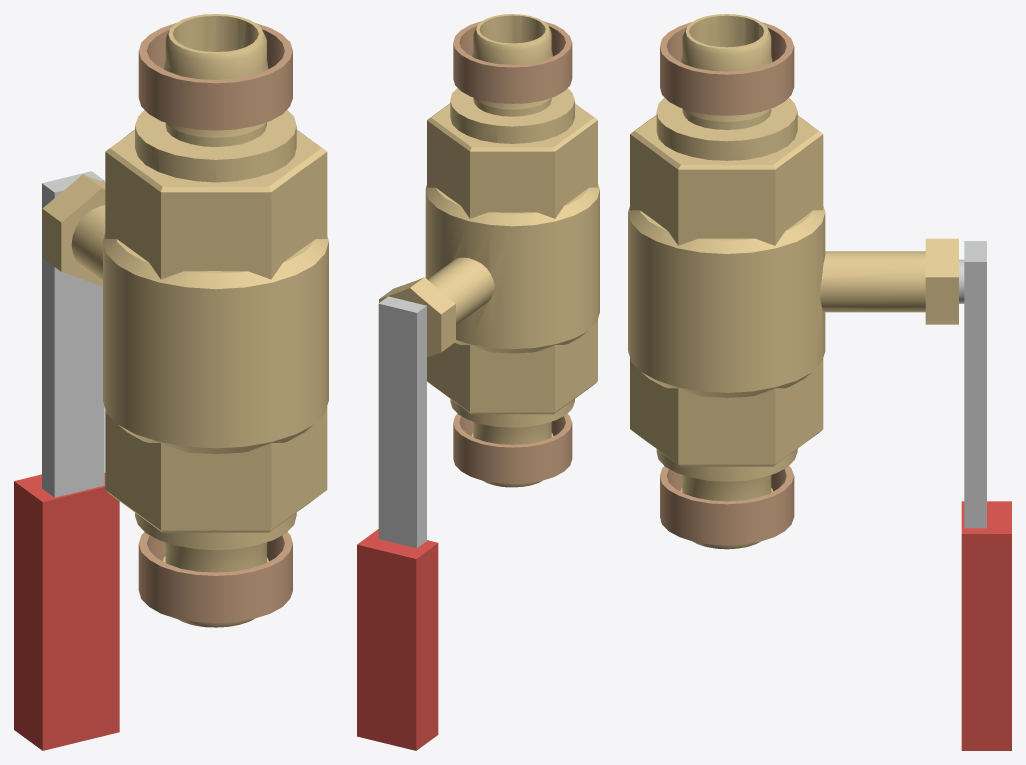
The model's file is slab_pipes_supply__water_heater-closet_electric_tank+closet_gas_tank_and_plumbing-attic_repipe+pex__r4y.glb.
The picture shows the model from 3 angles, left to right: view 1: azimuth 30°, elevation 25°; view 2: azimuth 150°, elevation 25°; view 3: azimuth 270°, elevation 25°; orthographic projection. The views are drawn at different scales.
Visible parts, largest first — view 1: valve_supply_wh_closet_cold__pex; view 2: valve_supply_wh_closet_cold__pex; view 3: valve_supply_wh_closet_cold__pex.
Boxes of the visible parts, x1,y1,x2,y2 form: valve_supply_wh_closet_cold__pex: [14, 14, 328, 750]; valve_supply_wh_closet_cold__pex: [357, 14, 599, 750]; valve_supply_wh_closet_cold__pex: [628, 14, 1011, 750].
Size of the model in its own units: 0.0356 by 0.1396 by 0.0691.
